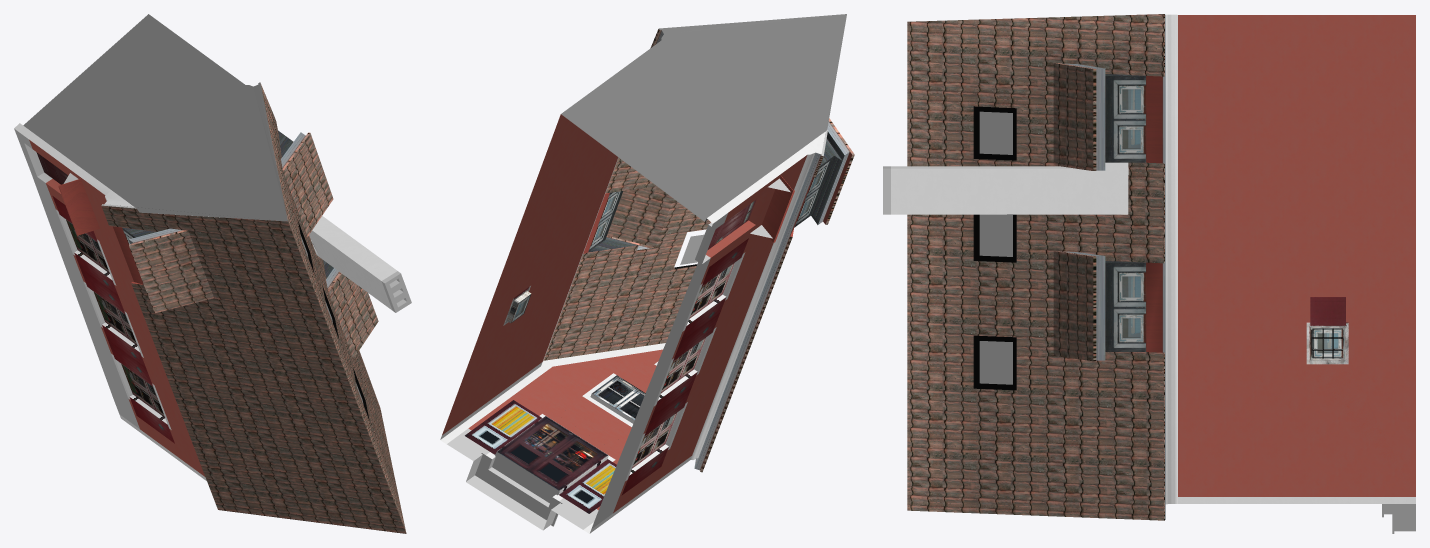
Rendered from Saiakang_4.obj.
The picture shows the model from 3 angles, left to right: view 1: azimuth 30°, elevation 25°; view 2: azimuth 150°, elevation 25°; view 3: azimuth 270°, elevation 25°; orthographic projection. The views are drawn at different scales.
Parts seen in each view (by area): view 1: Saiakang_4; view 2: Saiakang_4; view 3: Saiakang_4.
Boxes of the visible parts, box(x1,y1,x2,y2) form: Saiakang_4: box(14, 14, 411, 533); Saiakang_4: box(440, 14, 854, 533); Saiakang_4: box(883, 14, 1415, 533).
Bounding box in the file's own units: 7.72 × 10.73 × 10.14.
